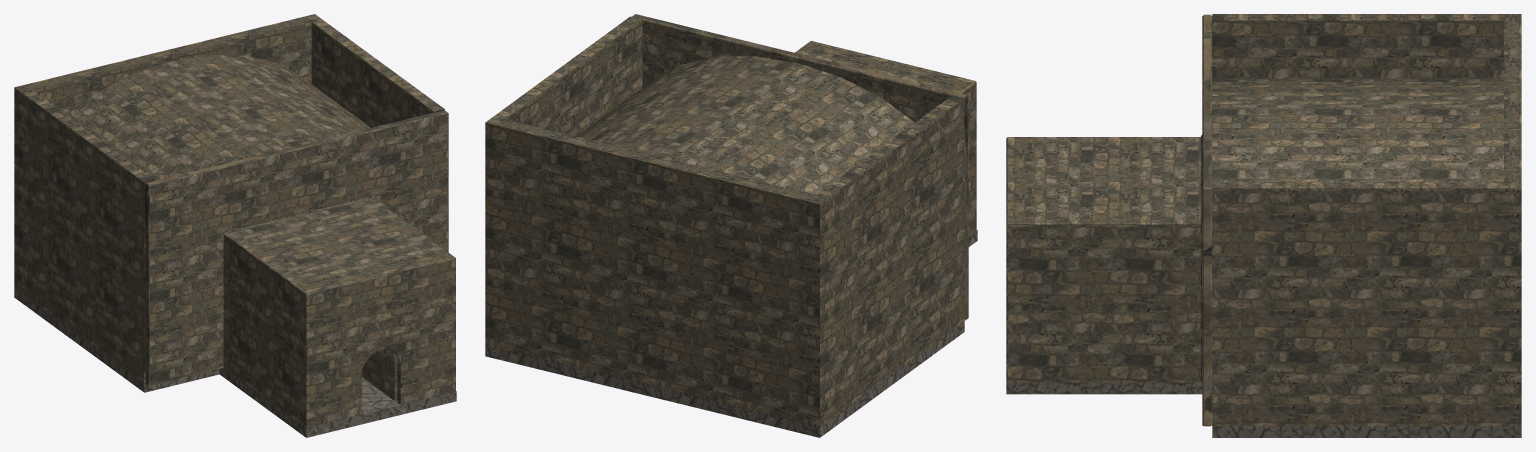
The model's file is CavePrison.fbx.
3 renders of one model, left to right at view 1: azimuth 30°, elevation 25°; view 2: azimuth 150°, elevation 25°; view 3: azimuth 270°, elevation 25°, orthographic. The views are drawn at different scales.
Parts seen in each view (by area): view 1: CavePrison_Entrance, CavePrison_Room, CavePrison_Roof, CavePrison_Floor; view 2: CavePrison_Room, CavePrison_Roof, CavePrison_Entrance, CavePrison_Floor; view 3: CavePrison_Room, CavePrison_Entrance, CavePrison_Roof, CavePrison_Floor.
Part boxes in pixels (x1,y1,x2,y2): CavePrison_Entrance: (145,110,455,427); CavePrison_Room: (14,14,444,382); CavePrison_Roof: (66,55,370,282); CavePrison_Floor: (14,288,456,437); CavePrison_Room: (485,16,964,426); CavePrison_Roof: (577,56,914,194); CavePrison_Entrance: (632,14,976,320); CavePrison_Floor: (485,230,977,437); CavePrison_Room: (1212,14,1521,426); CavePrison_Entrance: (1006,14,1212,426); CavePrison_Roof: (1212,78,1503,181); CavePrison_Floor: (1006,382,1521,437).
Bounding box in the file's own units: 16 × 10.69 × 20.
